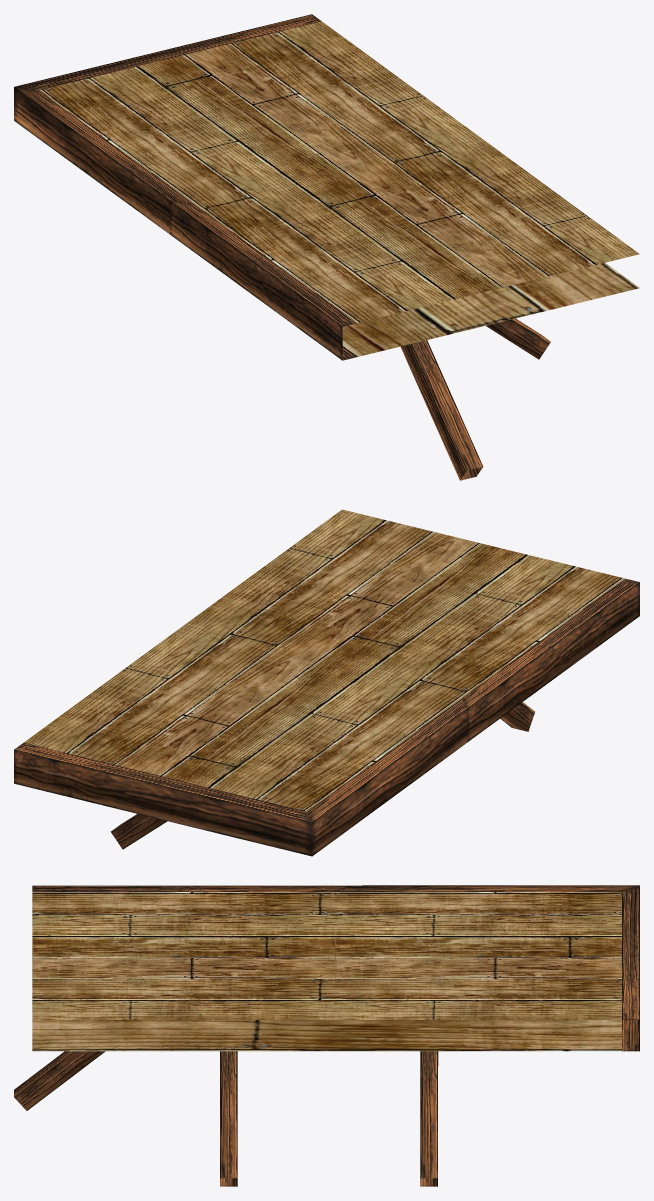
The model's file is LAKETOWN_WAREHOUSE2_PS_WH2_PLAT535342__GX.fbx.
3 renders of one model, top to bottom at view 1: azimuth 30°, elevation 25°; view 2: azimuth 150°, elevation 25°; view 3: azimuth 270°, elevation 25°, orthographic. The views are drawn at different scales.
Parts seen in each view (by area): view 1: LAKETOWN_WAREHOUSE2_PS_WH2_PLAT535342__GX; view 2: LAKETOWN_WAREHOUSE2_PS_WH2_PLAT535342__GX; view 3: LAKETOWN_WAREHOUSE2_PS_WH2_PLAT535342__GX.
Boxes of the visible parts, x1,y1,x2,y2 form: LAKETOWN_WAREHOUSE2_PS_WH2_PLAT535342__GX: [14, 14, 639, 480]; LAKETOWN_WAREHOUSE2_PS_WH2_PLAT535342__GX: [14, 509, 639, 856]; LAKETOWN_WAREHOUSE2_PS_WH2_PLAT535342__GX: [14, 885, 639, 1186].
Size of the model in its own units: 32827 by 18167 by 61903.
2 materials, 2 textured.
